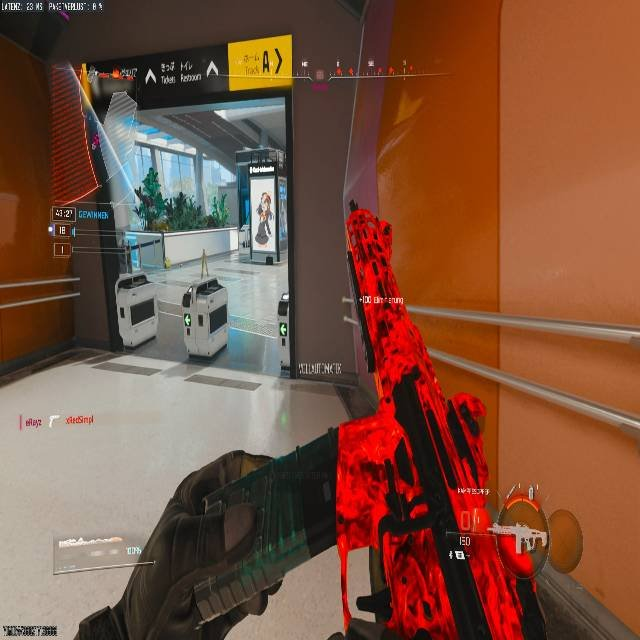head: (261, 192, 270, 201)
player: (258, 192, 272, 223)
